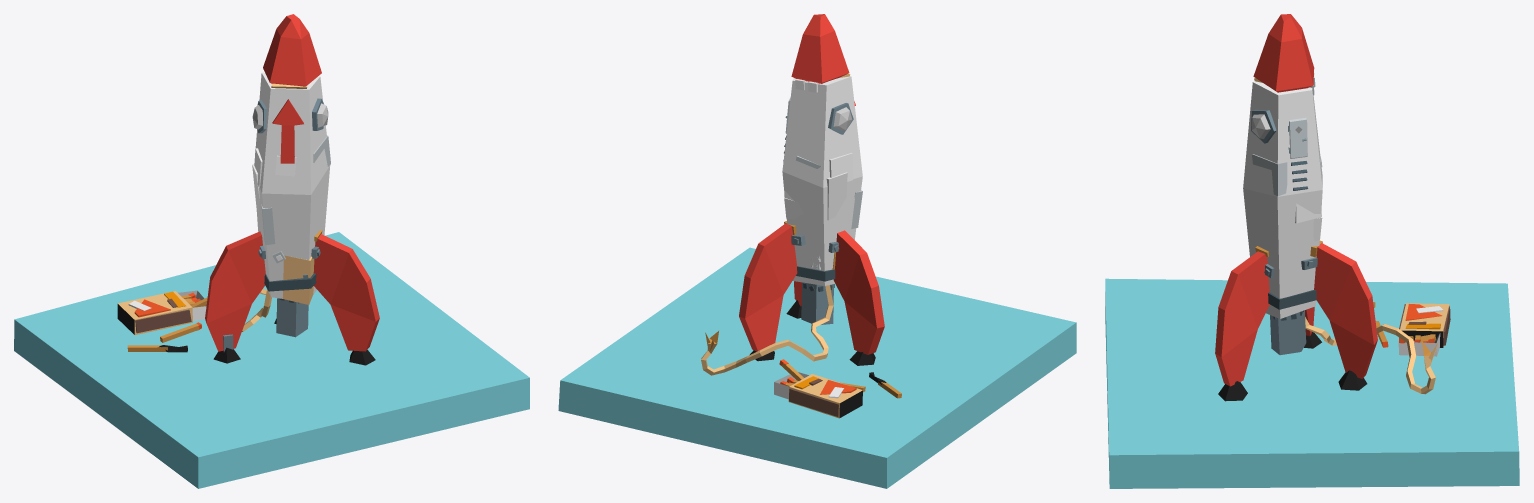
File: Rocket.fbx
The picture shows the model from 3 angles, left to right: view 1: azimuth 30°, elevation 25°; view 2: azimuth 150°, elevation 25°; view 3: azimuth 270°, elevation 25°; orthographic projection. The views are drawn at different scales.
Visible parts, largest first — view 1: mesh_592666355, group_1549935890, group_2018236600; view 2: mesh_592666355, group_1549935890, group_2018236600, group_1237899744; view 3: mesh_592666355, group_1549935890, group_2018236600, group_1237899744.
Boxes of the visible parts, x1=… form: mesh_592666355: x1=14, y1=232, x2=529, y2=488; group_1549935890: x1=205, y1=14, x2=379, y2=365; group_2018236600: x1=117, y1=290, x2=207, y2=334; mesh_592666355: x1=558, y1=247, x2=1076, y2=488; group_1549935890: x1=739, y1=14, x2=884, y2=365; group_2018236600: x1=774, y1=359, x2=862, y2=418; group_1237899744: x1=701, y1=285, x2=833, y2=375; mesh_592666355: x1=1105, y1=278, x2=1519, y2=488; group_1549935890: x1=1215, y1=14, x2=1377, y2=401; group_2018236600: x1=1398, y1=303, x2=1450, y2=356; group_1237899744: x1=1305, y1=317, x2=1437, y2=394.
Size of the model in its own units: 55.71 by 58.43 by 55.82.
